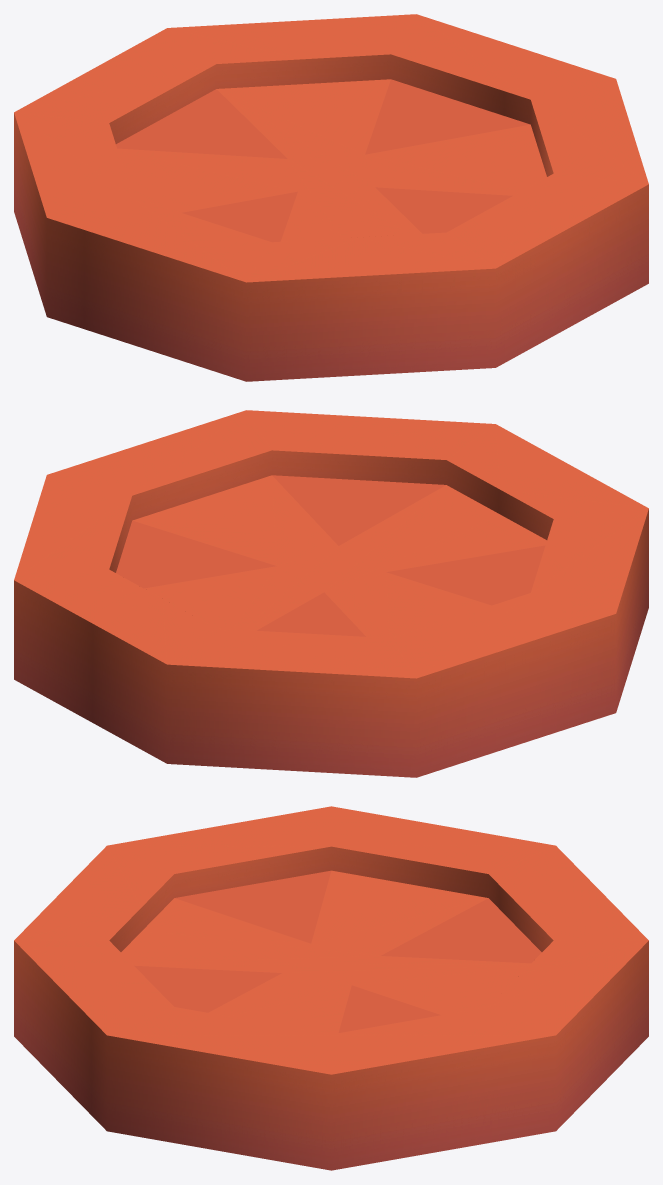
Rendered from tomato-slice.glb.
3 renders of one model, top to bottom at view 1: azimuth 30°, elevation 25°; view 2: azimuth 150°, elevation 25°; view 3: azimuth 270°, elevation 25°, orthographic. The views are drawn at different scales.
Visible parts, largest first — view 1: tomato-slice; view 2: tomato-slice; view 3: tomato-slice.
Boxes of the visible parts, x1,y1,x2,y2 form: tomato-slice: (14,14,648,381); tomato-slice: (14,410,648,777); tomato-slice: (14,806,648,1170).
Size of the model in its own units: 0.18 by 0.03 by 0.18.
Materials: 1 (1 with a texture image).
